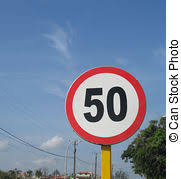Speed_limit_50km: (66, 67, 147, 144)
